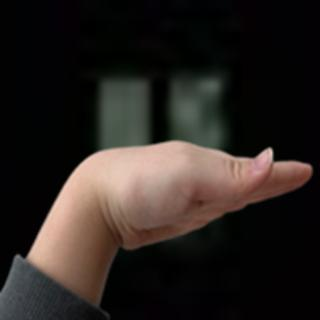Wait: (38, 139, 318, 254)
